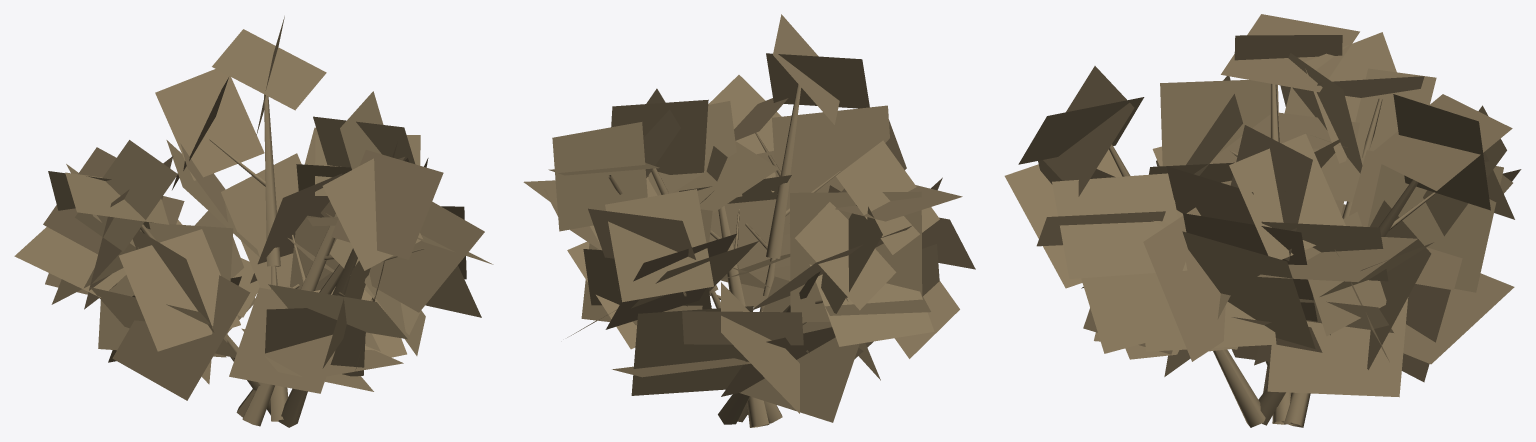
The model's file is bush-2-lod1.glb.
3 renders of one model, left to right at view 1: azimuth 30°, elevation 25°; view 2: azimuth 150°, elevation 25°; view 3: azimuth 270°, elevation 25°, orthographic. The views are drawn at different scales.
Visible parts, largest first — view 1: bush-2-lod1-bush-foliage, bush-2-lod1-oak-bark; view 2: bush-2-lod1-bush-foliage, bush-2-lod1-oak-bark; view 3: bush-2-lod1-bush-foliage, bush-2-lod1-oak-bark.
Part boxes in pixels (x1,y1,x2,y2): bush-2-lod1-bush-foliage: (14,16,493,400); bush-2-lod1-oak-bark: (140,94,423,427); bush-2-lod1-bush-foliage: (523,14,975,422); bush-2-lod1-oak-bark: (608,83,847,427); bush-2-lod1-bush-foliage: (1004,14,1521,397); bush-2-lod1-oak-bark: (1109,84,1436,427).
Bounding box in the file's own units: 3.67 × 2.76 × 3.61.
